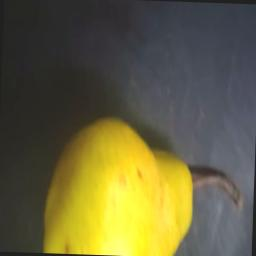Pear Unripe: (40, 104, 256, 256)
